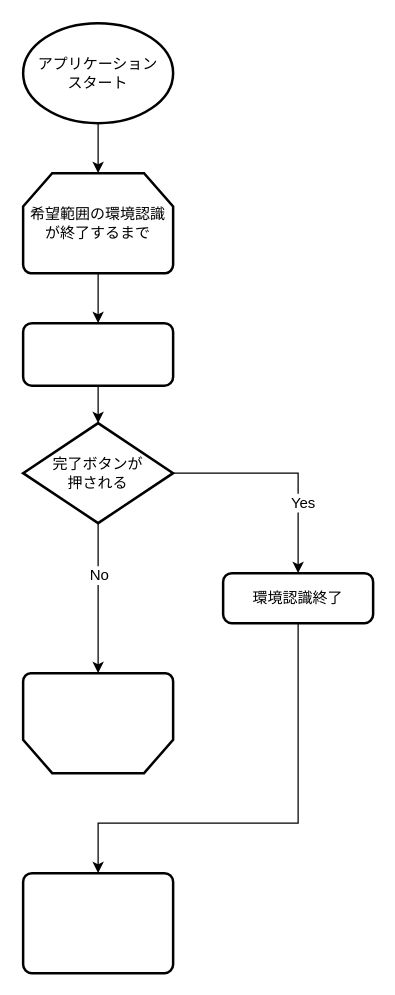
The diagram is 395 pixels wide and 995 high, and some of its shapes have lost their labels. Each missing label, with the centre of its shape:
初期設定を完了: the point at 97,922
環境認識: the point at 97,353
